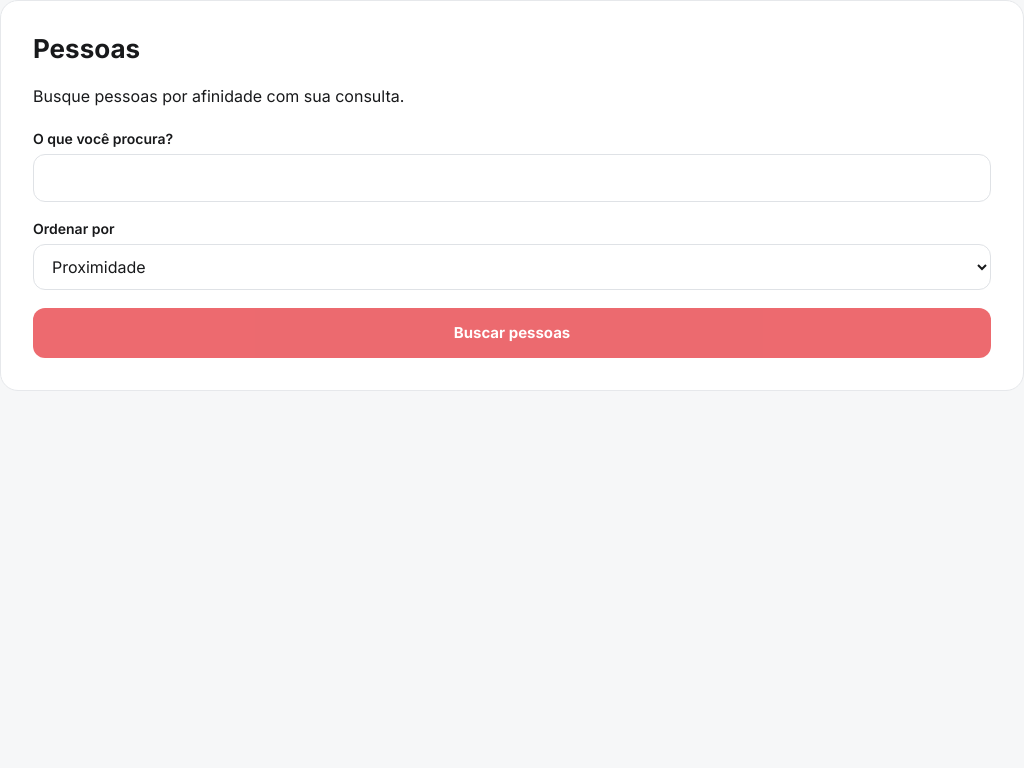
Scenario: busca pessoas e solicita conexão sem duplicar o envio
Type "tecnologia" into the field labelled "O que você procura?" at (512, 178), box [33, 154, 991, 202]
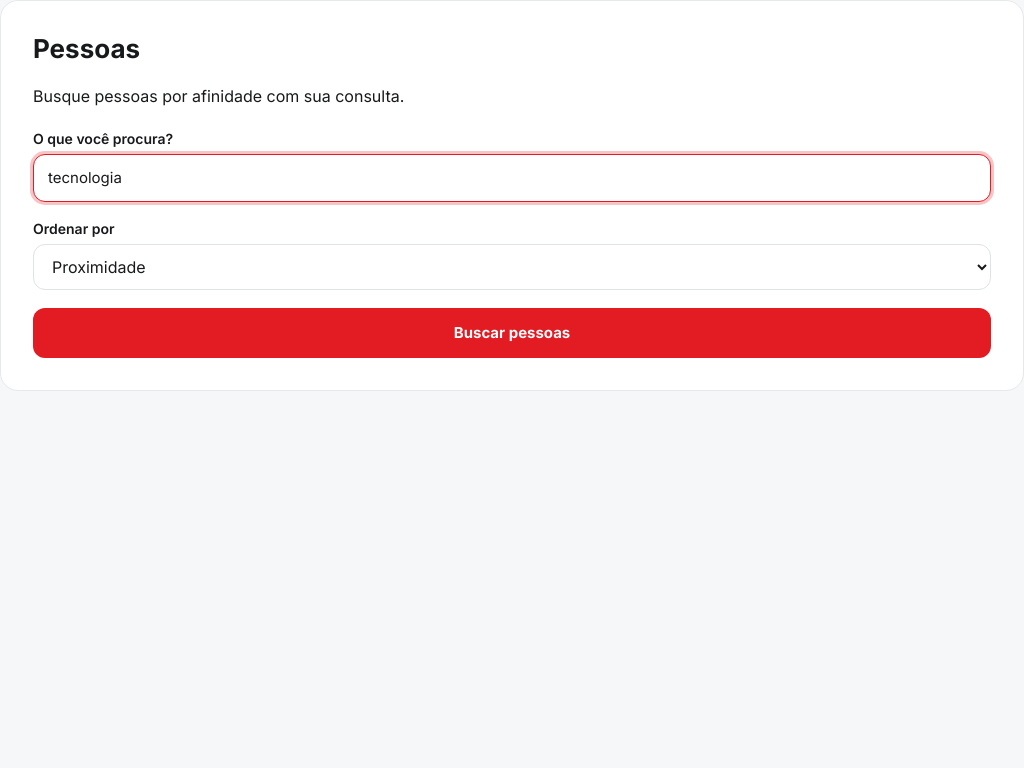
Click the button "Buscar pessoas" at (512, 333), box [33, 308, 991, 358]
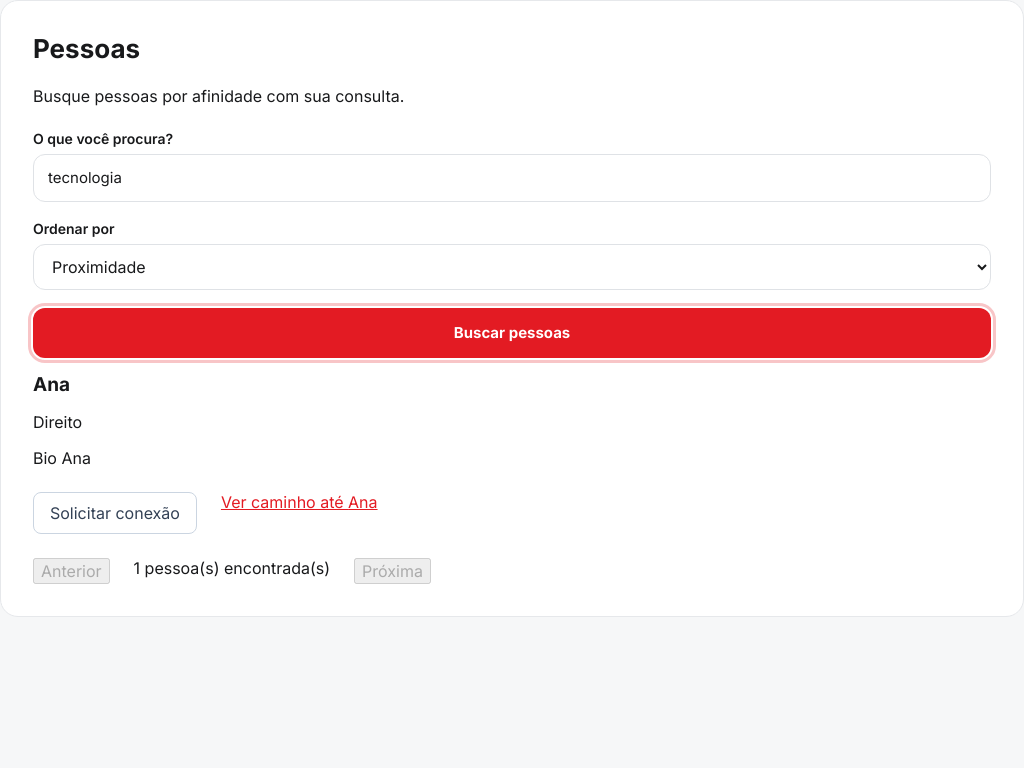
Now the heading "Ana" is shown, box [33, 373, 70, 396]
Double-click the button "Solicitar conexão" at (115, 513), box [33, 492, 197, 534]
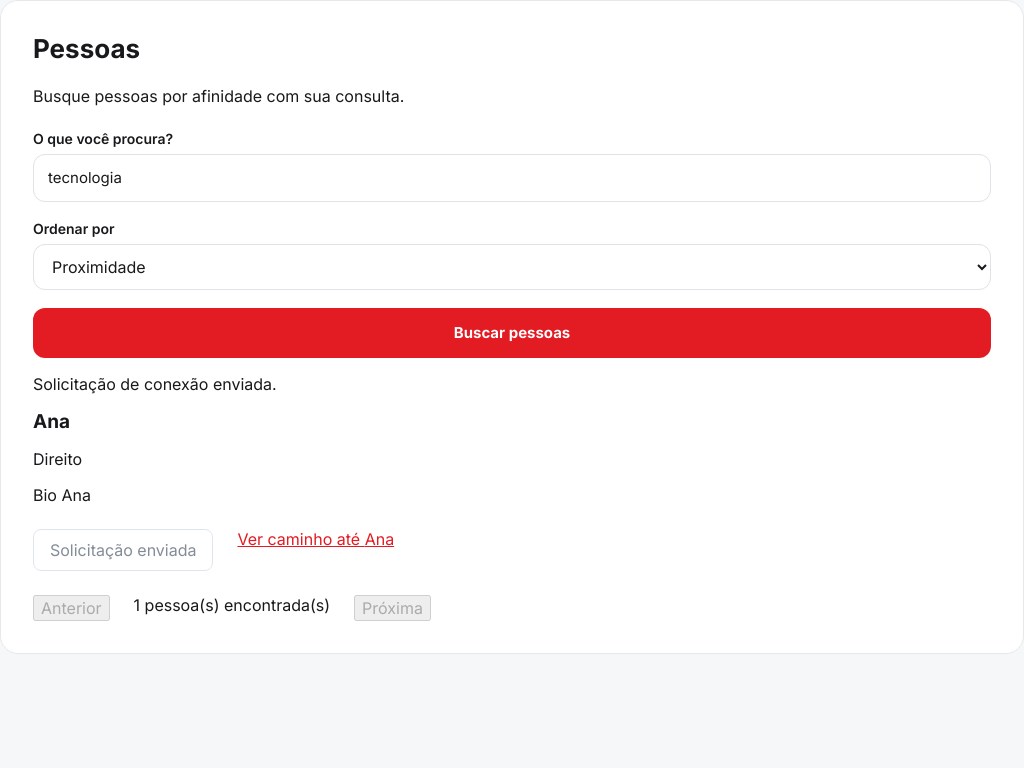
Now the button "Solicitação enviada" is disabled, box [33, 529, 214, 571]
